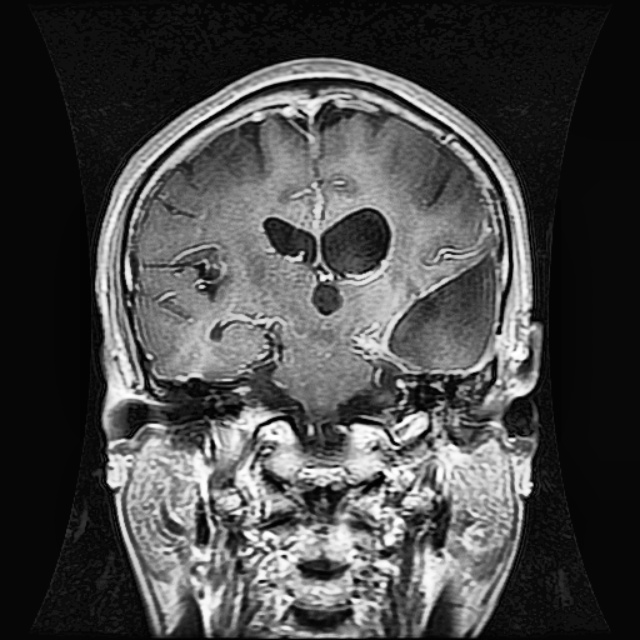Meningioma: (355, 224, 503, 377)
